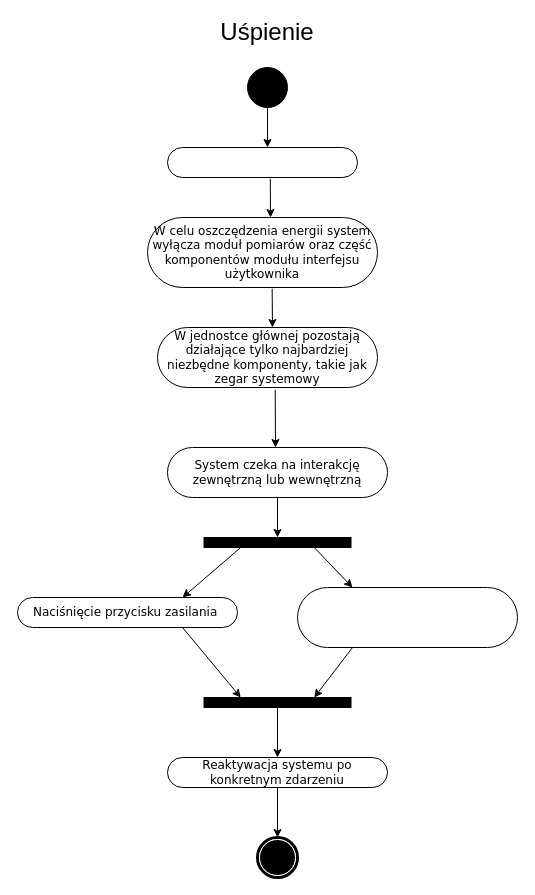
Some shapes in this 535 by 895 pixel diagram are drawn without their labels. Here are the shapes that lost their labels. From the top down, the centre of each, then its label:
At point 262,162: "System otrzymuje polecenie aby przejść w stan uśpienia".
At point 407,617: "Zaprogramowane zdarzenie, uruchamiające stację ze stanu skupienia".
